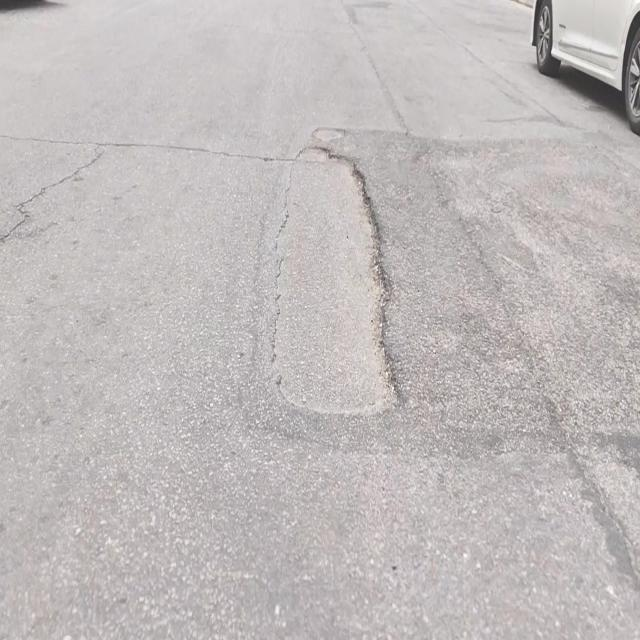Potholes: (269, 145, 406, 423)
